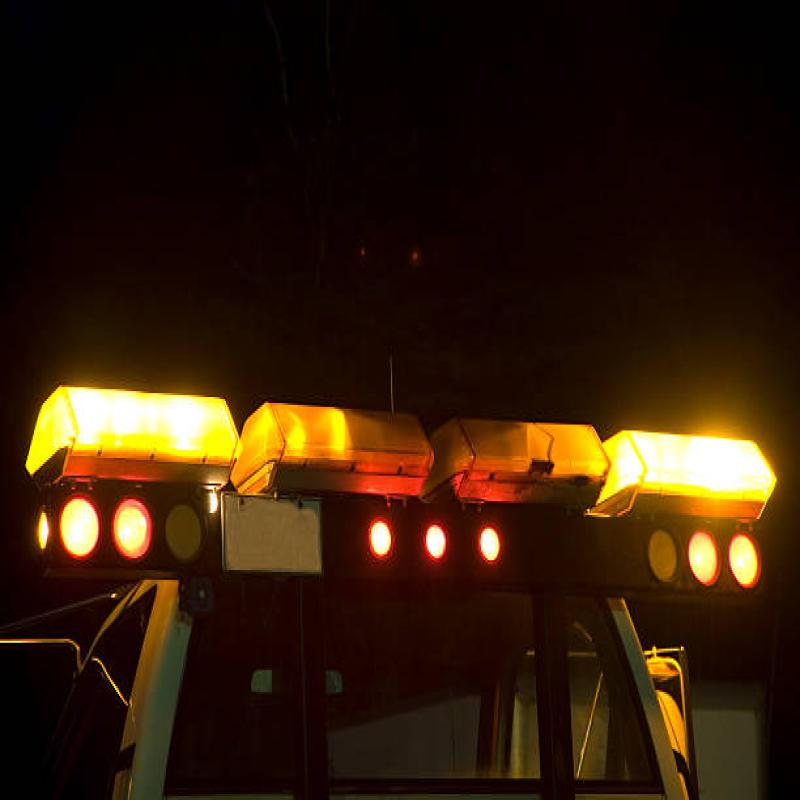AmbulanceSiren: (12, 372, 790, 617)
